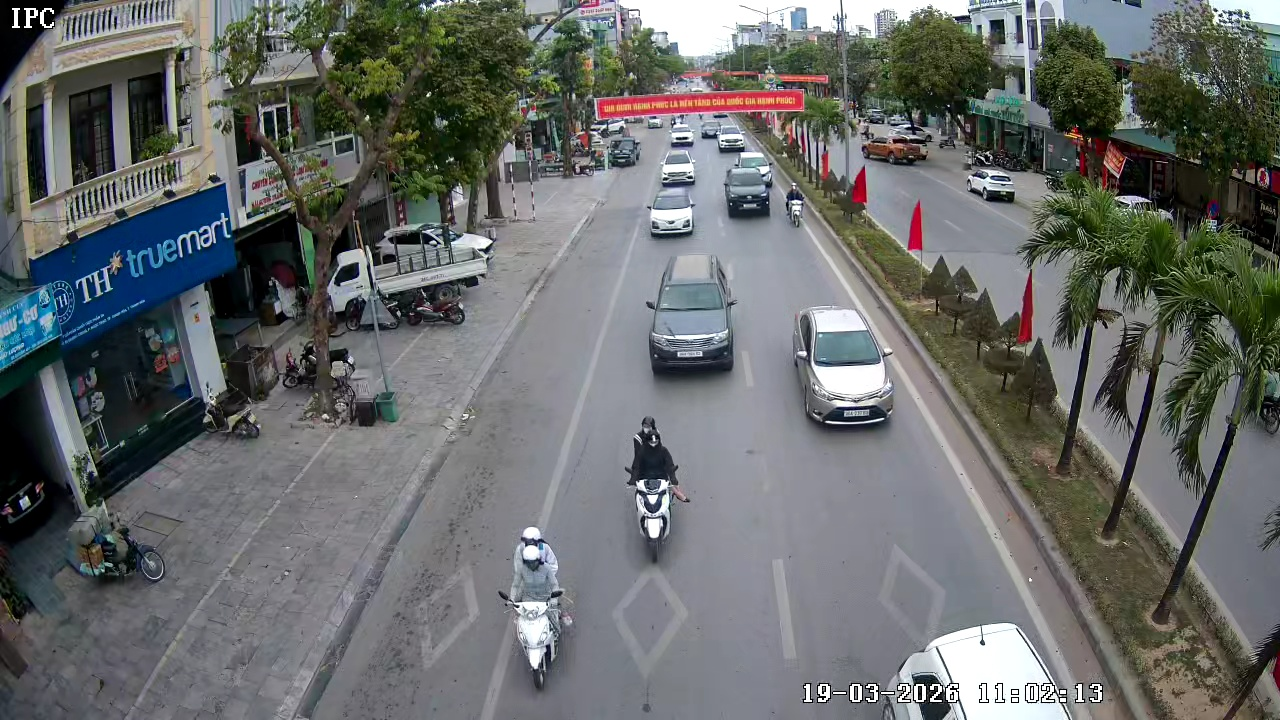car: (854, 617, 1110, 719), (791, 305, 894, 428), (645, 251, 738, 375), (646, 186, 697, 239), (723, 164, 773, 218), (965, 165, 1018, 204), (731, 151, 773, 187), (658, 149, 697, 187), (667, 122, 698, 149), (718, 126, 745, 152)
motorbike: (496, 524, 576, 692), (622, 417, 693, 563), (70, 499, 167, 585), (784, 184, 805, 228)
truck: (608, 132, 641, 167)
